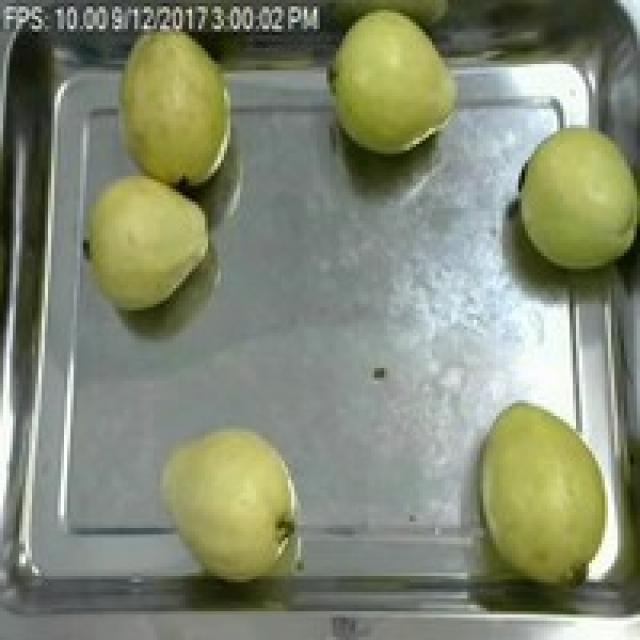Fruit: (464, 397, 627, 589), (150, 413, 314, 592), (314, 0, 471, 170), (106, 10, 243, 198), (77, 160, 221, 323), (505, 112, 640, 281)
